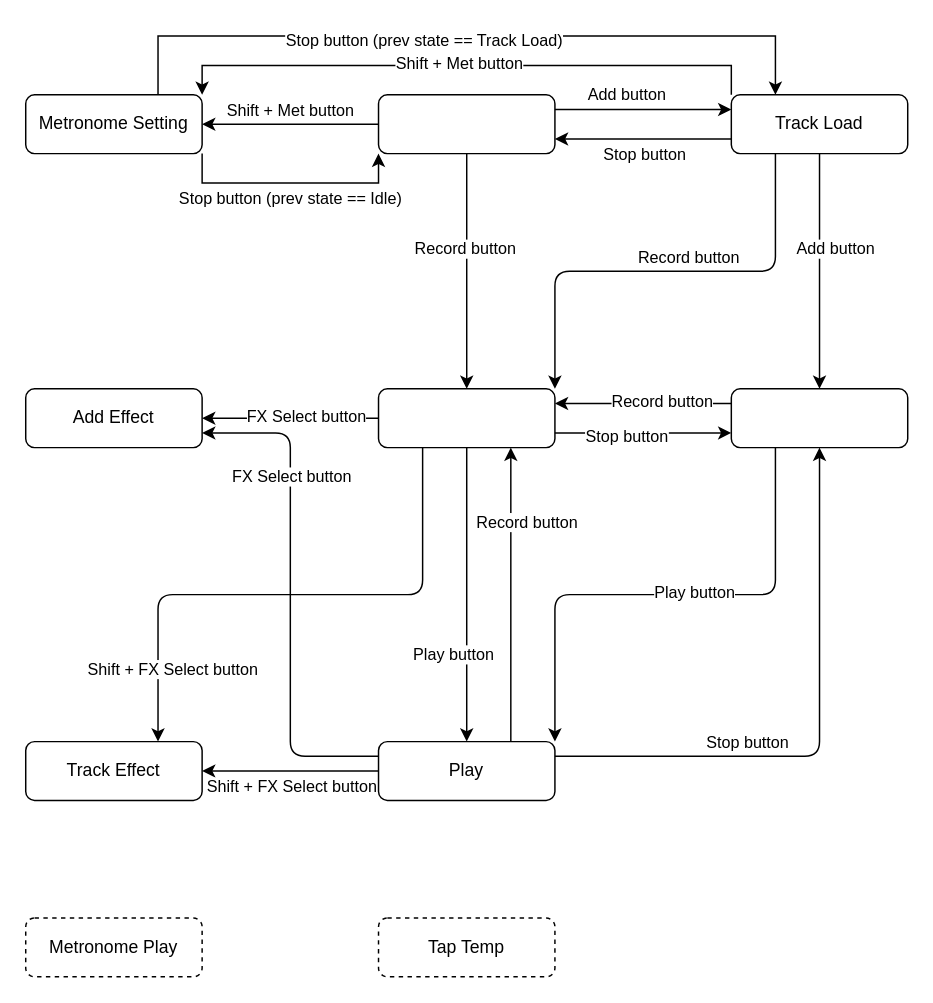
Image size: 933x1003. Some labels were removed from this diagram. Here are the shapes that lost their labels. From the top down, the centre of each, then its label:
At (466,123): "Idle (Initial State)".
At (466,417): "Record".
At (819,417): "Loaded".
